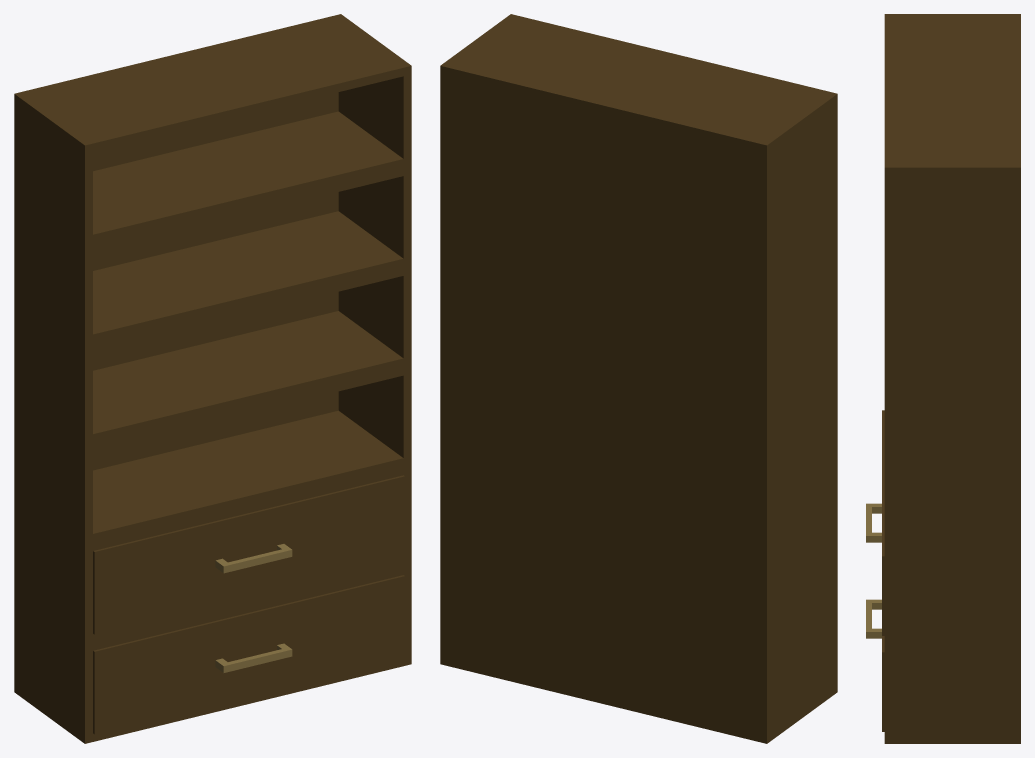
File: estanteria-material.fbx
3 views of the same model, side by side, from view 1: azimuth 30°, elevation 25°; view 2: azimuth 150°, elevation 25°; view 3: azimuth 270°, elevation 25° (orthographic). The views are drawn at different scales.
Visible parts, largest first — view 1: Estanteria; view 2: Estanteria; view 3: Estanteria.
Part boxes in pixels (x1,y1,x2,y2): Estanteria: (14,14,411,743); Estanteria: (440,14,837,743); Estanteria: (866,14,1020,743).
Bounding box in the file's own units: 103 × 180 × 43.79.
